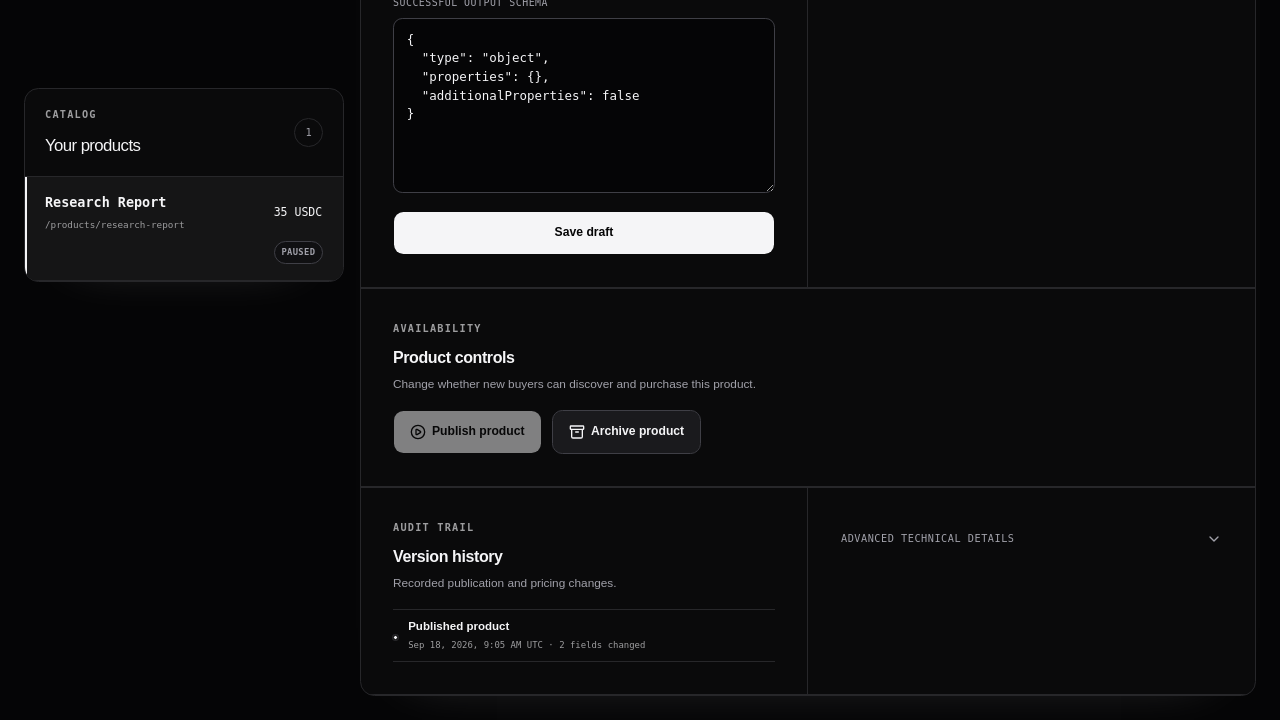
Test case: product route workspace › archives a stopped route and disables further edits
The image size is (1280, 720).
(page scrolled)
What coordinates should you click on to do the following:
click the button "Archive product"
I would click on:
 (626, 432)
Its box is [552, 410, 701, 454].
(page scrolled)
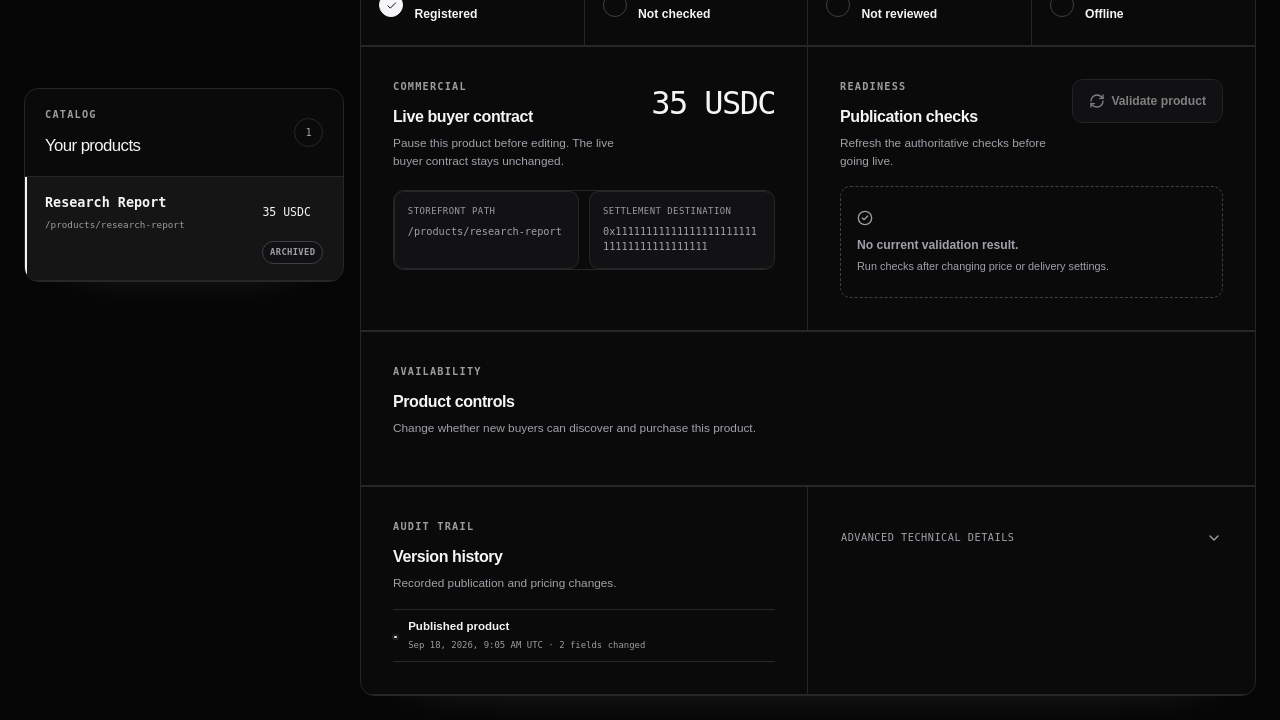
Now the text "Archived" is shown, box [262, 242, 323, 265]
Now the button "Validate product" is disabled, box [1072, 80, 1223, 124]
